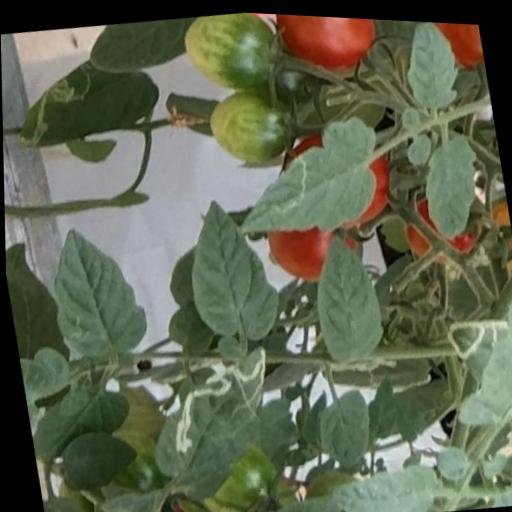Healthy: (177, 186, 284, 345), (302, 224, 389, 364), (414, 124, 488, 240), (325, 453, 442, 512), (396, 16, 466, 110), (308, 380, 377, 468)
Leaf_Miner: (132, 333, 290, 510), (222, 103, 391, 244), (5, 47, 167, 155), (41, 217, 152, 360), (440, 302, 512, 383)
